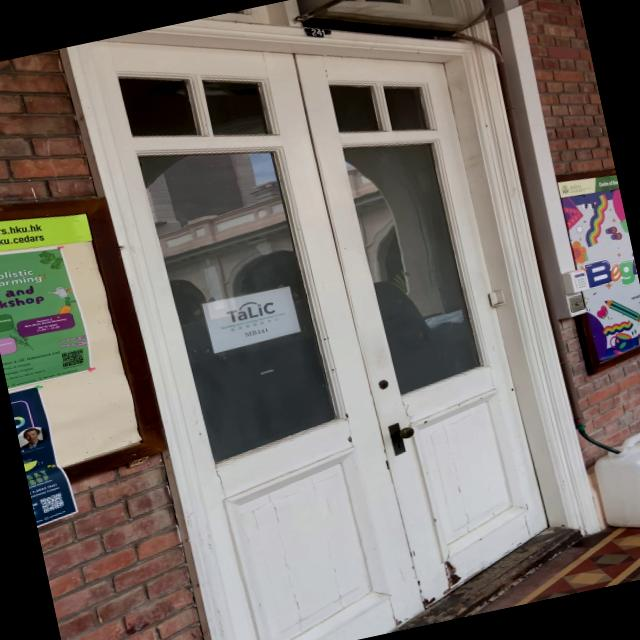room241: (301, 19, 334, 45)
